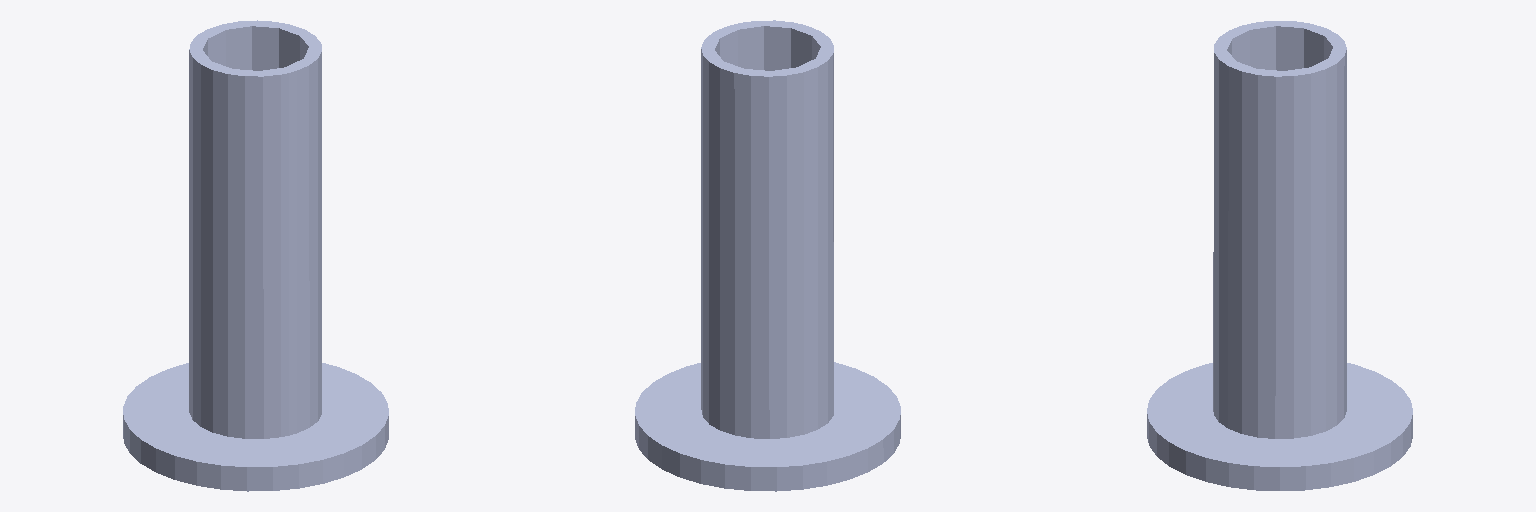
URDF robot description (taotong):
<?xml version="1.0" encoding="utf-8"?>
<!-- =================================================================================== -->
<!-- |    This document was autogenerated by xacro from taotong_hed.xacro              | -->
<!-- |    EDITING THIS FILE BY HAND IS NOT RECOMMENDED                                 | -->
<!-- =================================================================================== -->
<!-- This URDF was automatically created by SolidWorks to URDF Exporter! Originally created by [author] ([email redacted]) 
     Commit Version: 1.5.1-0-g916b5db  Build Version: 1.5.7152.31018
     For more information, please see http://wiki.ros.org/sw_urdf_exporter -->
<robot name="taotong">
  <!--link 8-->
  <!-- taotong_link8 -->
  <link name="taotong_link8">
    <inertial>
      <origin rpy="0 0 0" xyz="0 0 0"/>
      <mass value="0.0015445"/>
      <inertia ixx="1.8927E-07" ixy="-5.5536E-25" ixz="-5.6967E-24" iyy="1.8927E-07" iyz="1.81890651016342E-23" izz="4.9863E-08"/>
    </inertial>
    <visual>
      <origin rpy="1.57 0 0" xyz="0 0 0"/>
      <geometry>
        <mesh filename="package://rokae_desk/meshes/taotong_hed.stl" scale="3 3 3"/>
      </geometry>
      <material name="">
        <color rgba="0.79216 0.81961 0.93333 1"/>
      </material>
    </visual>
    <collision>
      <origin rpy="1.57 0 0" xyz="0 0 0"/>
      <geometry>
        <mesh filename="package://rokae_desk/meshes/taotong_hed.stl" scale="3 3 3"/>
      </geometry>
    </collision>
  </link>
  <gazebo reference="taotong_link8">
    <material>Gazebo/Gray</material>
  </gazebo>
  <!-- ros_control plugin -->
  <gazebo>
    <plugin filename="libgazebo_ros_control.so" name="gazebo_ros_control">
      <robotNamespace>/taotong</robotNamespace>
      <robotSimType>gazebo_ros_control/DefaultRobotHWSim</robotSimType>
      <legacyModeNS>true</legacyModeNS>
    </plugin>
  </gazebo>

</robot>

--- What the picture shows (computed from the rendered views, not written in the file) ---
3 views of the same robot in one strip: view 1: azimuth 30°, elevation 25°; view 2: azimuth 150°, elevation 25°; view 3: azimuth 270°, elevation 25° (orthographic).
Model taotong with 1 links and 0 joints (none), rooted at taotong_link8, posed all joints at 0.
Visible links, largest first — view 1: taotong_link8; view 2: taotong_link8; view 3: taotong_link8.
Boxes of the visible links, bbox=[...] form: taotong_link8: bbox=[123, 20, 388, 491]; taotong_link8: bbox=[635, 20, 900, 491]; taotong_link8: bbox=[1147, 21, 1412, 490].
Size in the robot's own frame: 0.06 by 0.06 by 0.096 metres.
1 mesh visuals loaded from 1 distinct referenced files (1 binary STL).
